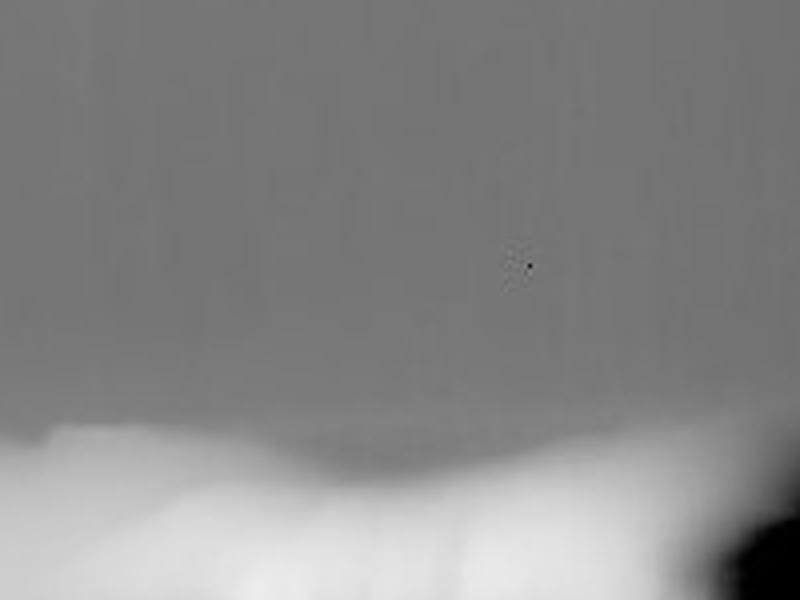defect: (725, 520, 798, 593)
